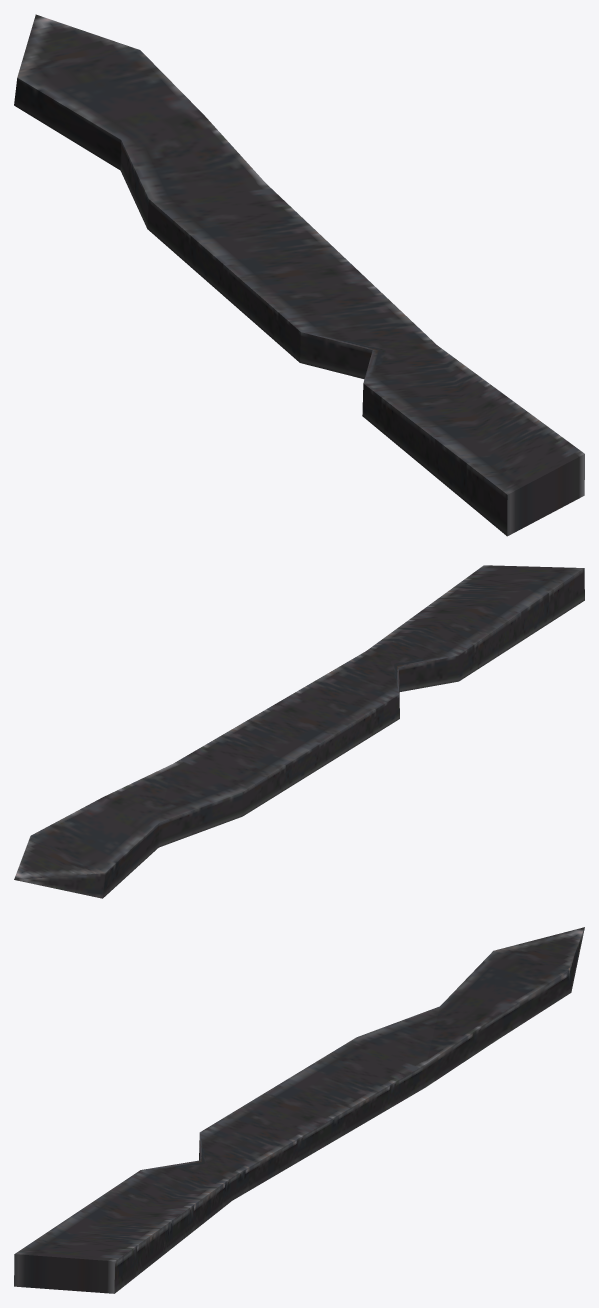
The model's file is 10504_IronRail10.FBX.
The picture shows the model from 3 angles, top to bottom: view 1: azimuth 30°, elevation 25°; view 2: azimuth 150°, elevation 25°; view 3: azimuth 330°, elevation 25°; orthographic projection. The views are drawn at different scales.
Visible parts, largest first — view 1: 10504_IronRail10; view 2: 10504_IronRail10; view 3: 10504_IronRail10.
Boxes of the visible parts, <box> form: 10504_IronRail10: <box>14,14,584,536</box>; 10504_IronRail10: <box>14,565,584,898</box>; 10504_IronRail10: <box>14,927,584,1293</box>.
Size of the model in its own units: 62.86 by 19.05 by 382.
